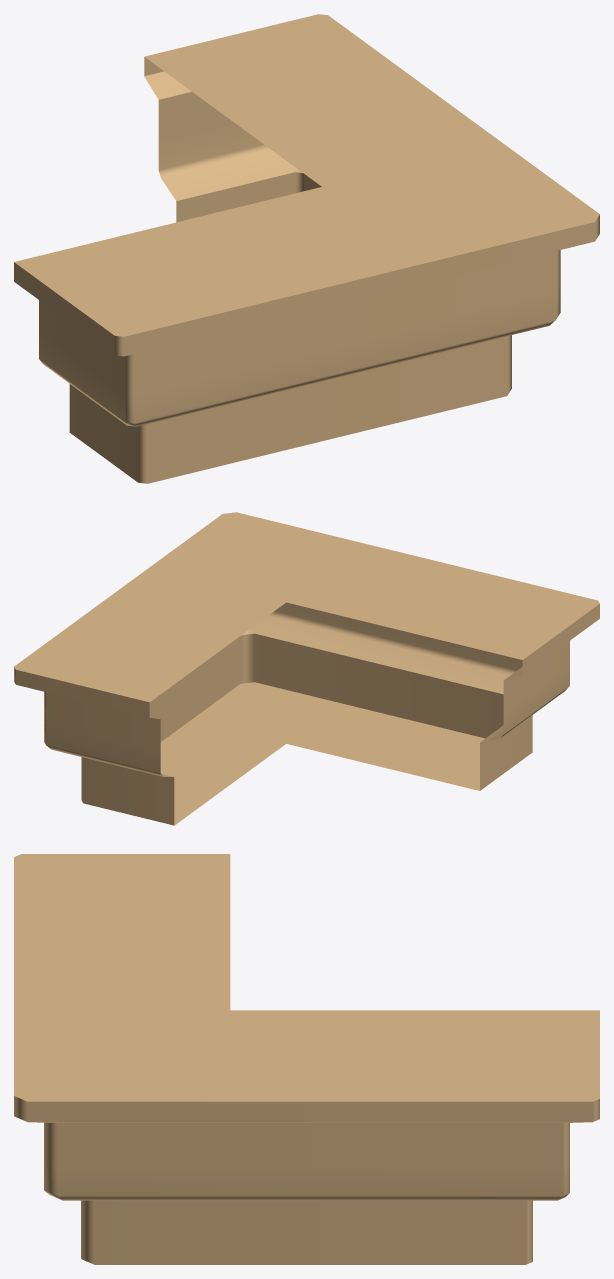
Rendered from DBK_Trim_B_Cap_Corner.fbx.
The picture shows the model from 3 angles, top to bottom: view 1: azimuth 30°, elevation 25°; view 2: azimuth 150°, elevation 25°; view 3: azimuth 270°, elevation 25°; orthographic projection. The views are drawn at different scales.
Parts seen in each view (by area): view 1: DBK_Trim_B_Cap_Corner; view 2: DBK_Trim_B_Cap_Corner; view 3: DBK_Trim_B_Cap_Corner.
Part boxes in pixels (left/top/right/bottom): DBK_Trim_B_Cap_Corner: left=14, top=14, right=599, bottom=483; DBK_Trim_B_Cap_Corner: left=14, top=512, right=599, bottom=825; DBK_Trim_B_Cap_Corner: left=14, top=854, right=599, bottom=1264.
Size of the model in its own units: 73.38 by 26.44 by 73.38.
